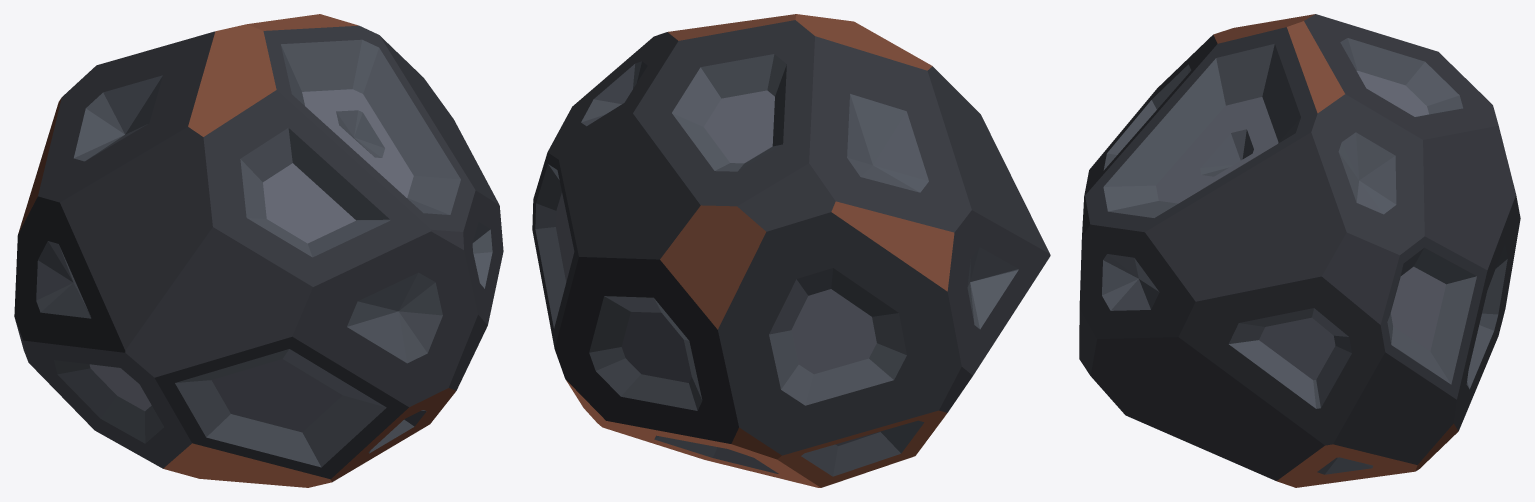
Rendered from meteorite-c400d9.glb.
3 views of the same model, side by side, from view 1: azimuth 30°, elevation 25°; view 2: azimuth 150°, elevation 25°; view 3: azimuth 270°, elevation 25° (orthographic). The views are drawn at different scales.
Visible parts, largest first — view 1: meteorite-body; view 2: meteorite-body; view 3: meteorite-body.
Boxes of the visible parts, x1=… form: meteorite-body: x1=14, y1=14, x2=503, y2=487; meteorite-body: x1=532, y1=14, x2=1050, y2=487; meteorite-body: x1=1079, y1=14, x2=1520, y2=487.
Bounding box in the file's own units: 0.82 × 0.78 × 0.76.
